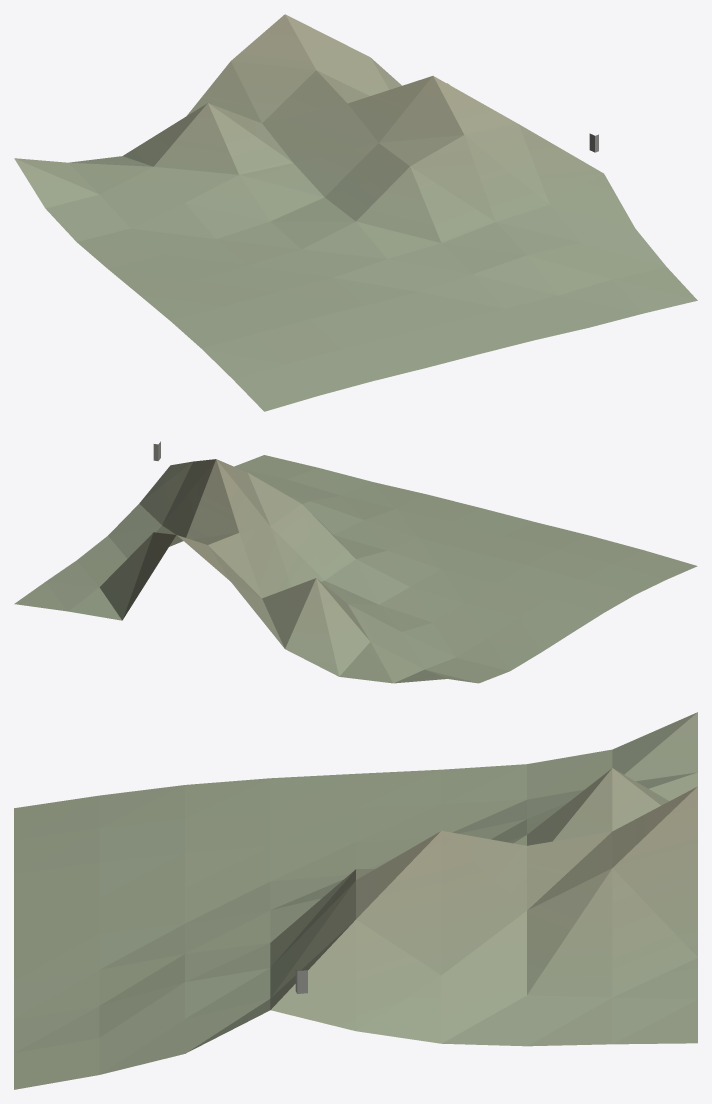
The model's file is tile_4_-49_lod1.gltf.
3 views of the same model, one above another, from view 1: azimuth 30°, elevation 25°; view 2: azimuth 150°, elevation 25°; view 3: azimuth 270°, elevation 25° (orthographic). The views are drawn at different scales.
Visible parts, largest first — view 1: Terrain_col; view 2: Terrain_col; view 3: Terrain_col.
Part boxes in pixels (x1,y1,x2,y2): Terrain_col: (14, 14, 697, 411); Terrain_col: (14, 455, 697, 683); Terrain_col: (14, 712, 697, 1089).
Bounding box in the file's own units: 259 × 83.68 × 256.
